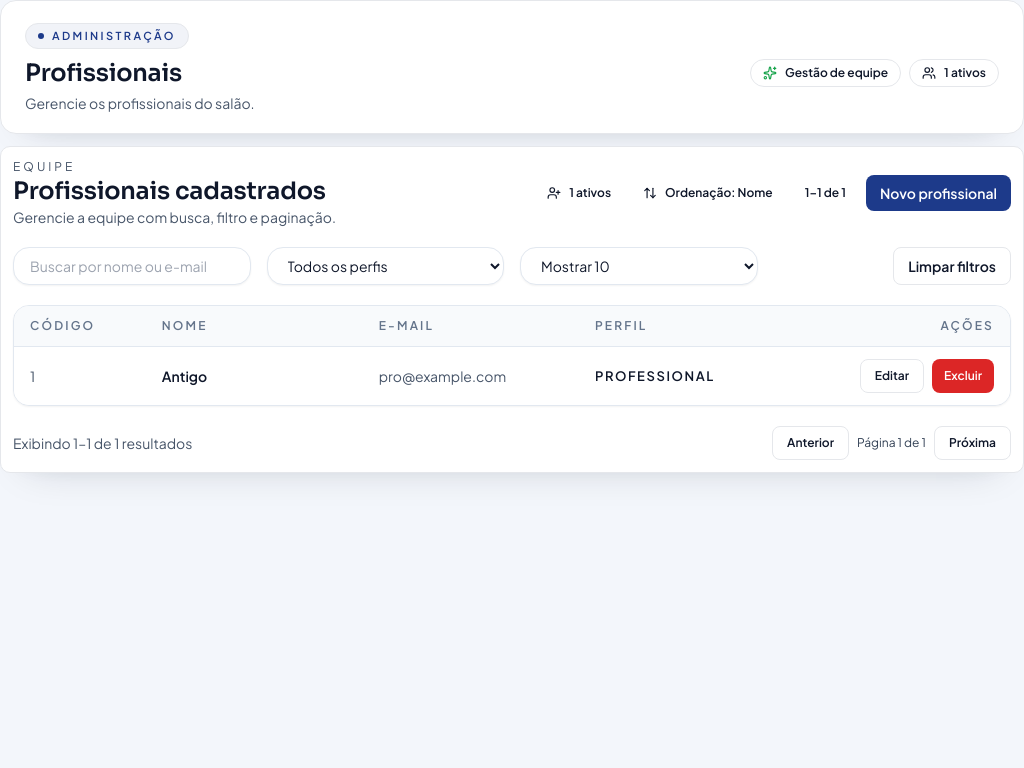
Test: Profissionais › exibe lista e permite editar profissional
Expected: the text "Antigo" is shown, [146,347,363,405]
Click the button "Editar".
click(892, 376)  # box [860,359,924,393]
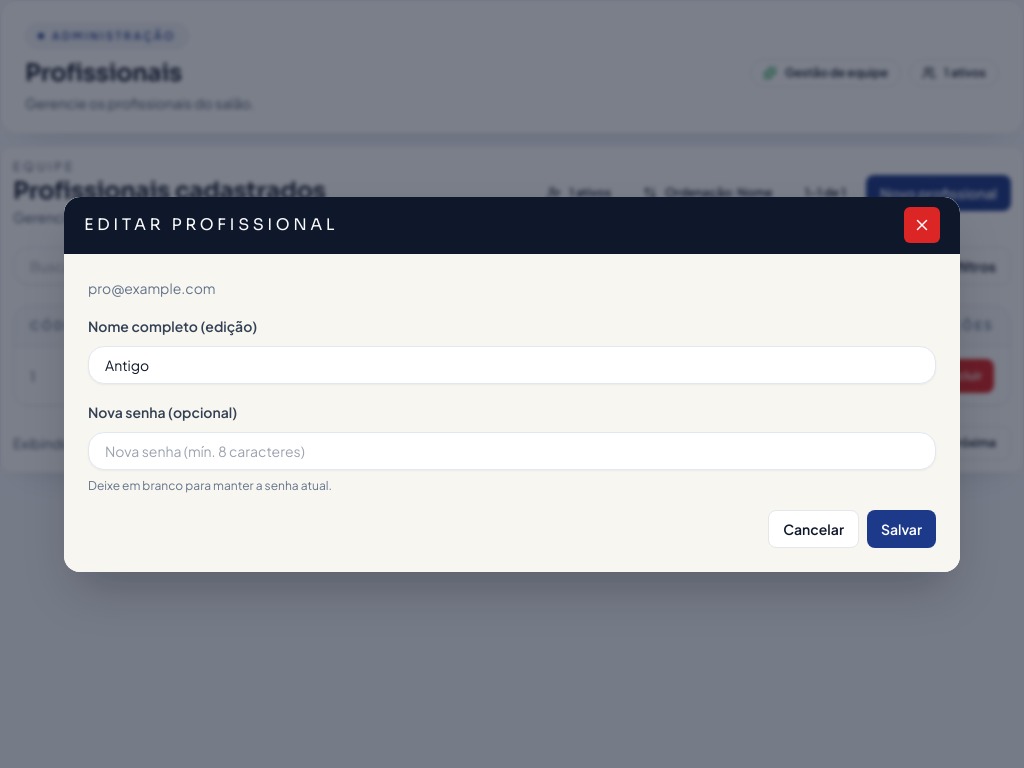
Expected: the heading "Editar profissional" is shown, [84,214,338,234]
Replace the text in the field with placeholder "Nome completo" with "Novo Nome" at (512, 364), box [88,346,936,384]
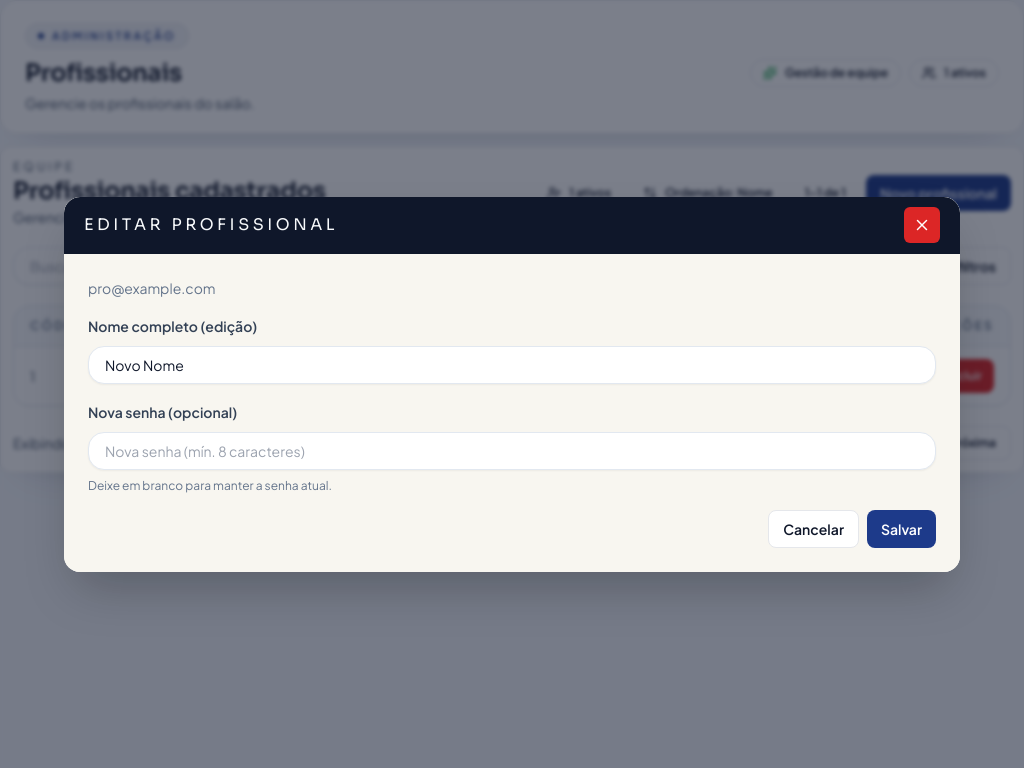
Type "nova-senha-123" into the password field with placeholder "Nova senha (mín. 8 caracteres)".
click(512, 450); type("nova-senha-123")  # box [88,432,936,470]
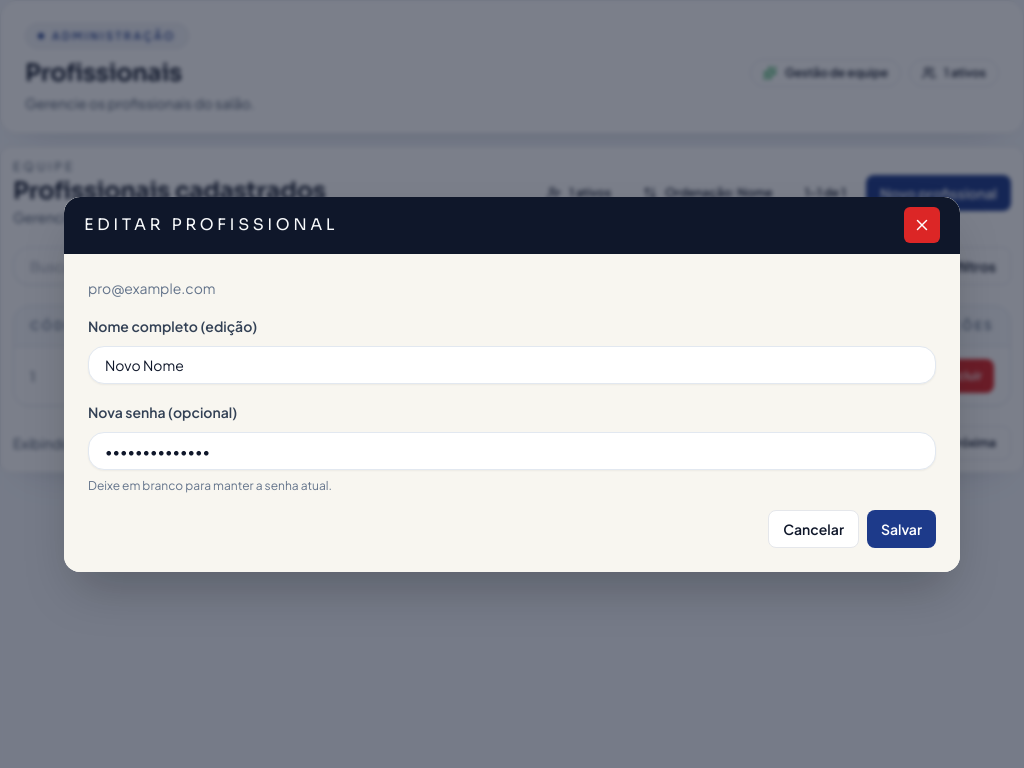
Click the button "Salvar".
click(902, 528)  # box [867,510,936,548]
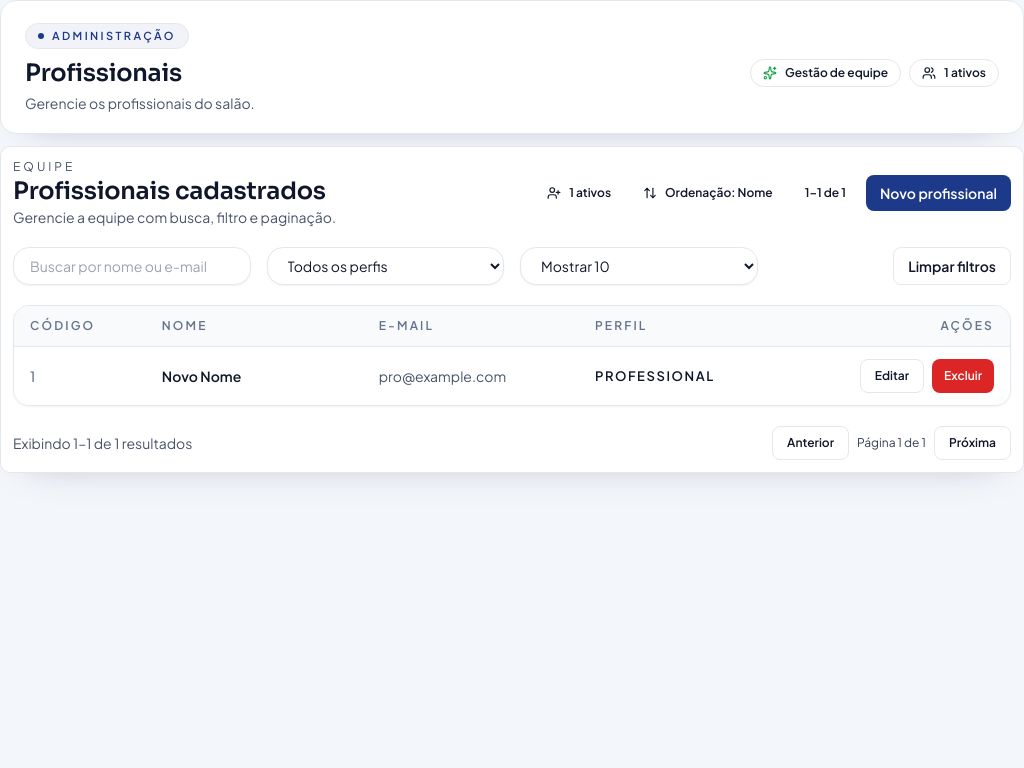
Expected: the text "Novo Nome" is shown, [146,347,363,405]
